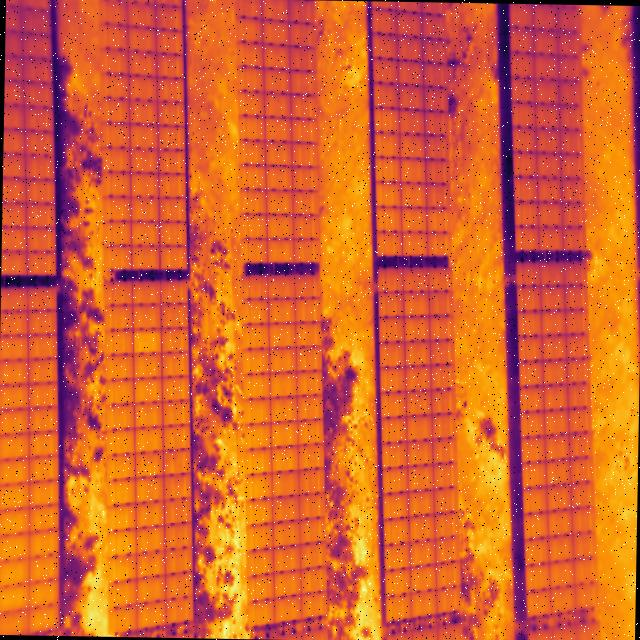Hotspot: (135, 332, 159, 351)
